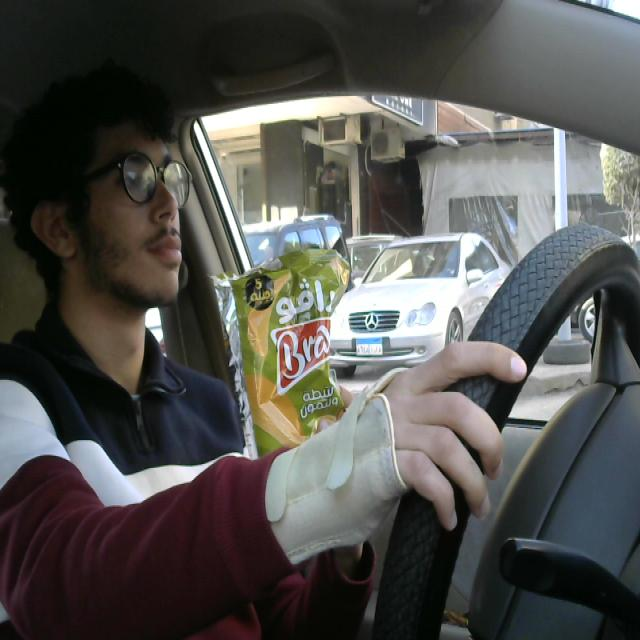eating: (206, 240, 358, 482)
